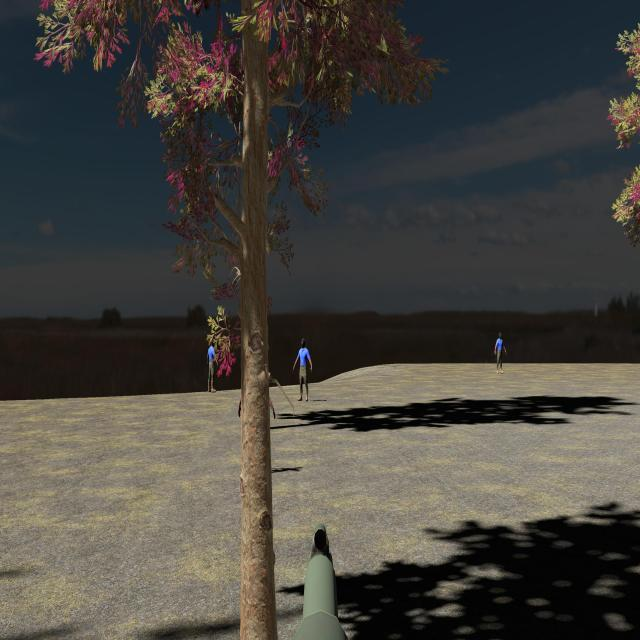Human: (293, 338, 313, 402), (207, 337, 218, 393), (495, 331, 506, 374)
